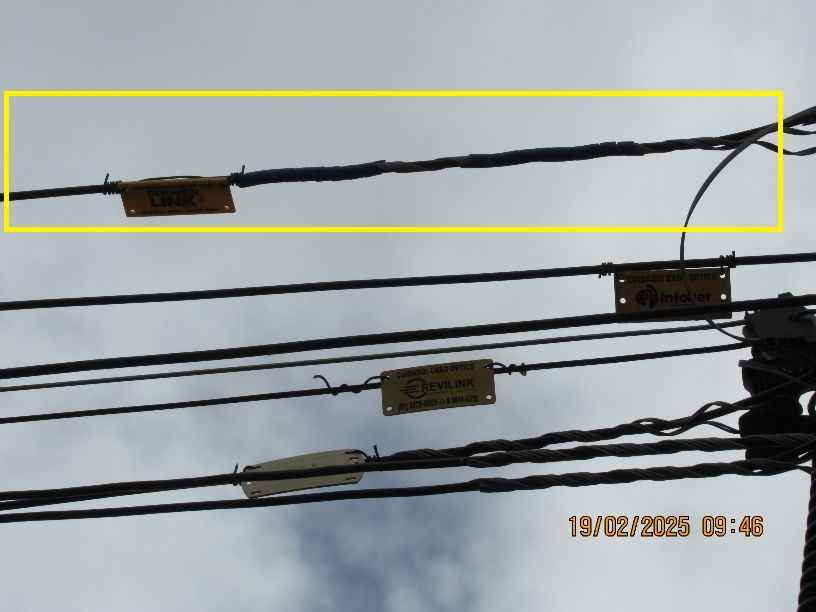drop: (738, 281, 816, 397)
fibra_optica: (375, 355, 498, 418), (615, 265, 735, 322), (237, 448, 368, 499), (119, 169, 243, 218)
